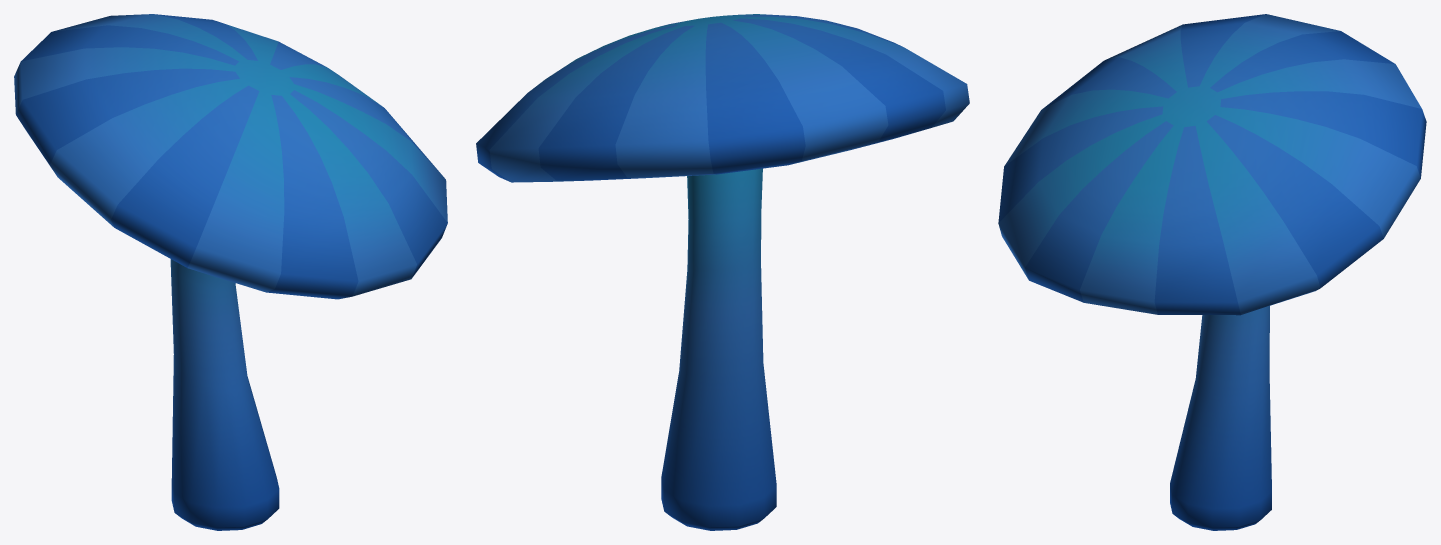
Rendered from Fungus-2-1.fbx.
The picture shows the model from 3 angles, left to right: view 1: azimuth 30°, elevation 25°; view 2: azimuth 150°, elevation 25°; view 3: azimuth 270°, elevation 25°; orthographic projection. The views are drawn at different scales.
Parts seen in each view (by area): view 1: Fungus-2-1; view 2: Fungus-2-1; view 3: Fungus-2-1.
Boxes of the visible parts, box(x1,y1,x2,y2) form: Fungus-2-1: box(14, 14, 447, 530); Fungus-2-1: box(476, 14, 969, 530); Fungus-2-1: box(998, 14, 1426, 530).
Bounding box in the file's own units: 68.44 × 77.38 × 68.73.
